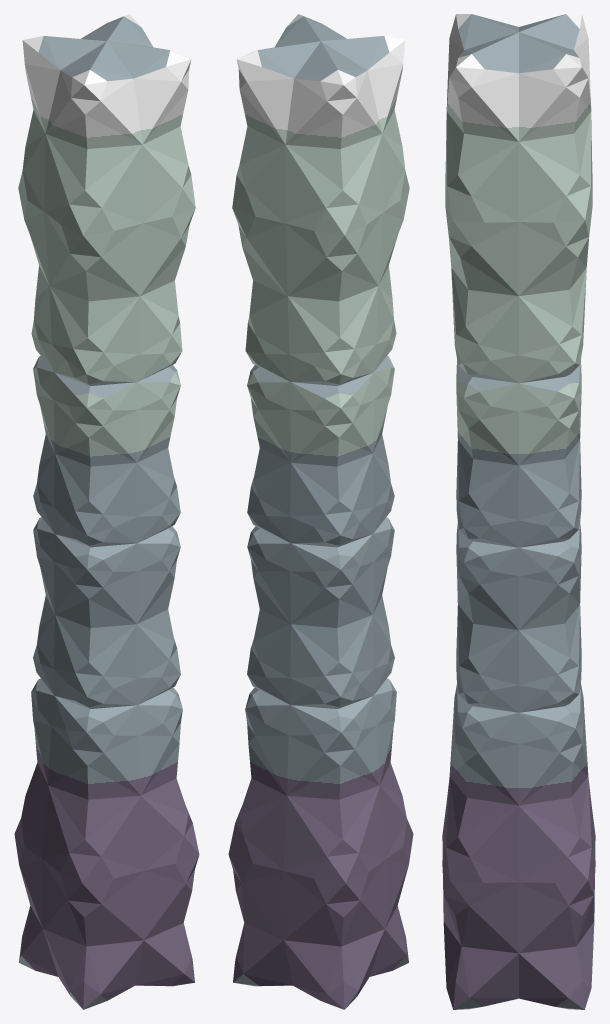
Rendered from Pillar 2.001.fbx.
The picture shows the model from 3 angles, left to right: view 1: azimuth 30°, elevation 25°; view 2: azimuth 150°, elevation 25°; view 3: azimuth 270°, elevation 25°; orthographic projection.
Visible parts, largest first — view 1: Pillar 2.001; view 2: Pillar 2.001; view 3: Pillar 2.001.
Part boxes in pixels (left/top/right/bottom): Pillar 2.001: left=14, top=14, right=199, bottom=1009; Pillar 2.001: left=228, top=14, right=413, bottom=1009; Pillar 2.001: left=442, top=14, right=595, bottom=1009.
Bounding box in the file's own units: 84.26 × 582 × 84.26.
